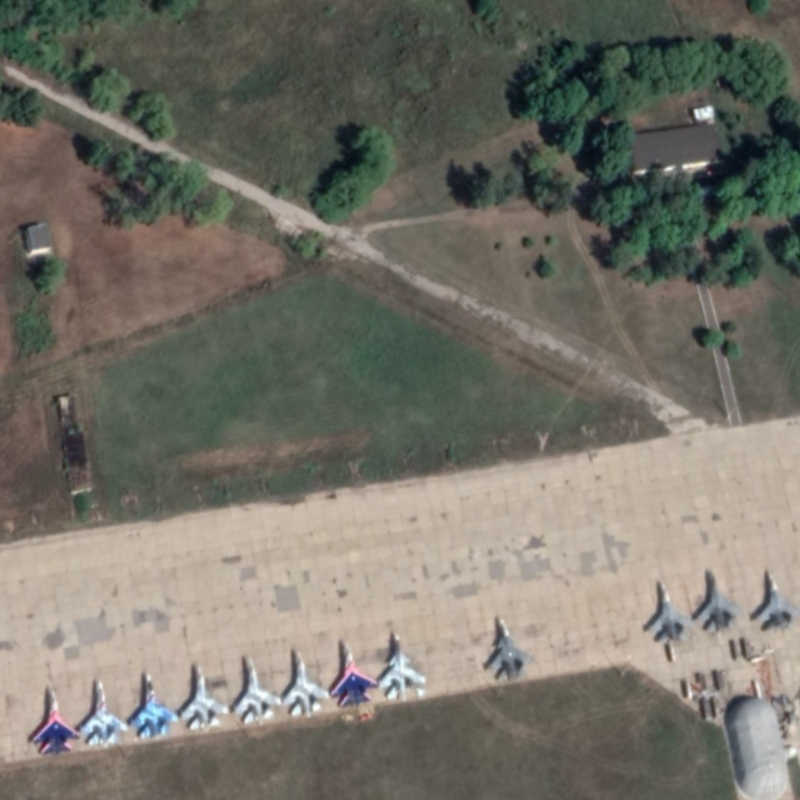A1: (23, 683, 83, 759), (176, 658, 233, 733), (229, 651, 283, 728), (78, 675, 133, 750), (125, 667, 179, 742), (747, 563, 800, 639), (327, 637, 381, 711), (279, 645, 331, 721), (640, 576, 693, 646), (694, 566, 745, 635)
A19: (375, 628, 429, 704), (482, 615, 539, 686)
